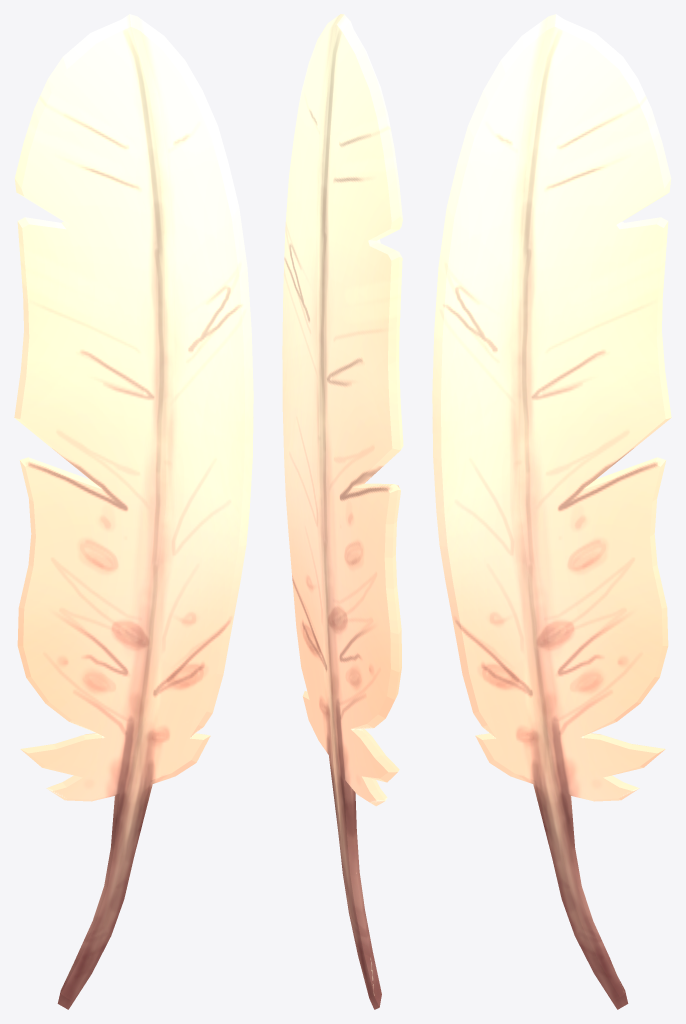
The model's file is feather.glb.
3 renders of one model, left to right at view 1: azimuth 90°, elevation 25°; view 2: azimuth 210°, elevation 25°; view 3: azimuth 270°, elevation 25°, orthographic. The views are drawn at different scales.
Parts seen in each view (by area): view 1: Object_2; view 2: Object_2; view 3: Object_2.
Part boxes in pixels (box(x1,y1,x2,y2)): Object_2: box(14, 14, 253, 1009); Object_2: box(282, 14, 403, 1009); Object_2: box(432, 14, 671, 1009).
Size of the model in its own units: 0.0202 by 1.35 by 0.2933.
Materials: 1 (1 with a texture image).
